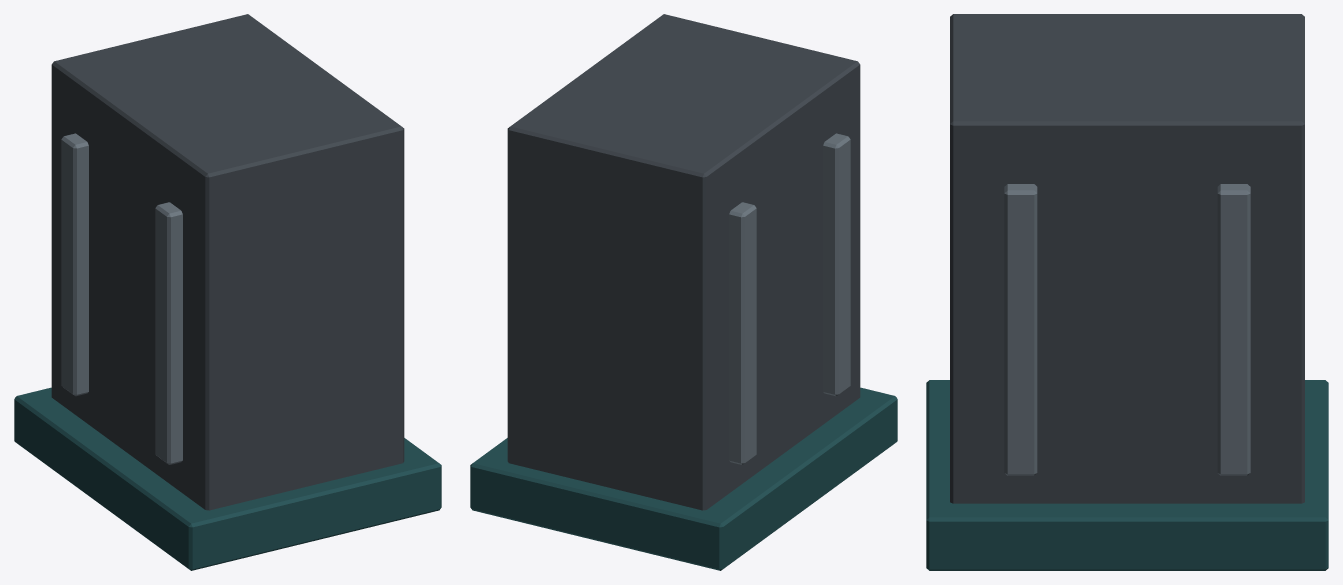
Rendered from Firearm_811.fbx.
3 views of the same model, side by side, from view 1: azimuth 30°, elevation 25°; view 2: azimuth 150°, elevation 25°; view 3: azimuth 270°, elevation 25° (orthographic). The views are drawn at different scales.
Parts seen in each view (by area): view 1: Firearm_811; view 2: Firearm_811; view 3: Firearm_811.
Boxes of the visible parts, x1,y1,x2,y2 form: Firearm_811: (14, 14, 441, 570); Firearm_811: (470, 14, 897, 570); Firearm_811: (926, 14, 1328, 570).
Size of the model in its own units: 0.14 by 0.2025 by 0.17.
